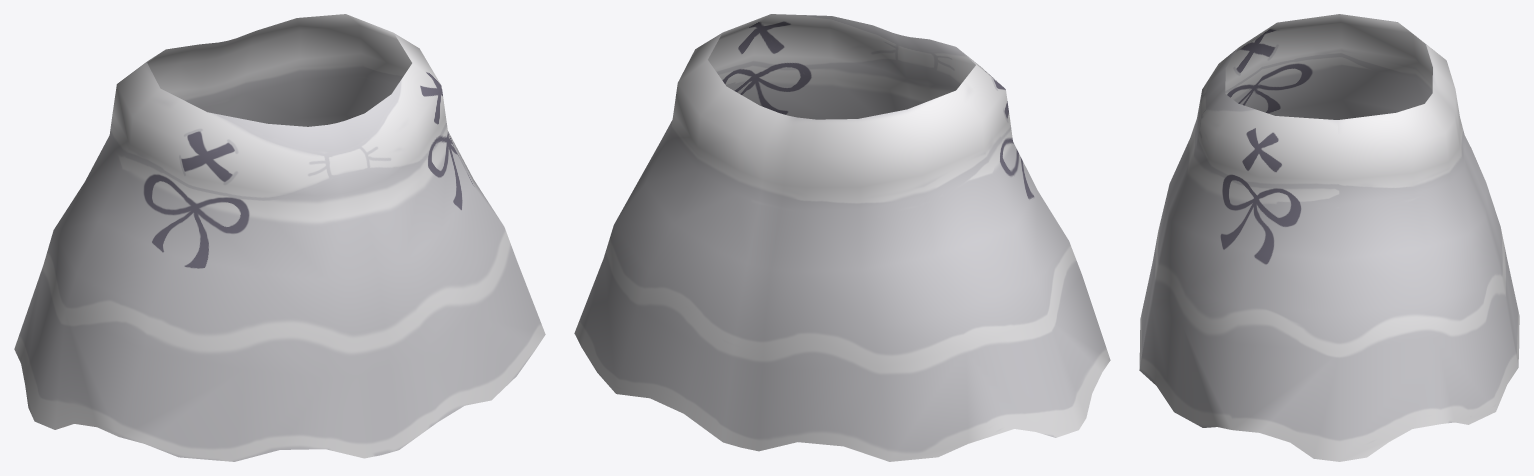
File: falda.glb
3 renders of one model, left to right at view 1: azimuth 30°, elevation 25°; view 2: azimuth 150°, elevation 25°; view 3: azimuth 270°, elevation 25°, orthographic. The views are drawn at different scales.
Parts seen in each view (by area): view 1: pantalones; view 2: pantalones; view 3: pantalones.
Boxes of the visible parts, x1,y1,x2,y2 form: pantalones: (14,14,545,461); pantalones: (574,14,1110,461); pantalones: (1139,14,1519,461).
Bounding box in the file's own units: 0.7521 × 0.4744 × 0.5512.
Materials: 1 (1 with a texture image).
